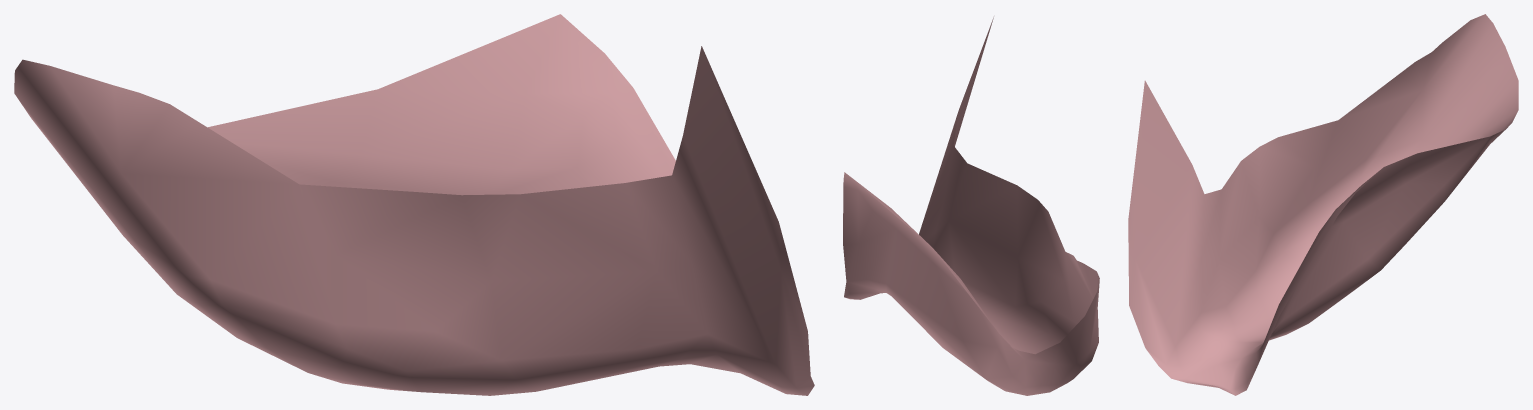
3 views of the same model, side by side, from view 1: azimuth 30°, elevation 25°; view 2: azimuth 150°, elevation 25°; view 3: azimuth 270°, elevation 25° (orthographic). The views are drawn at different scales.
Parts seen in each view (by area): view 1: ZA_6ed6f569b45c9cb0; view 2: ZA_6ed6f569b45c9cb0; view 3: ZA_6ed6f569b45c9cb0.
Part boxes in pixels (x1,y1,x2,y2): ZA_6ed6f569b45c9cb0: (14,14,814,395); ZA_6ed6f569b45c9cb0: (843,17,1099,395); ZA_6ed6f569b45c9cb0: (1128,14,1518,395).
Bounding box in the file's own units: 0.0235 × 0.0161 × 0.0211.
